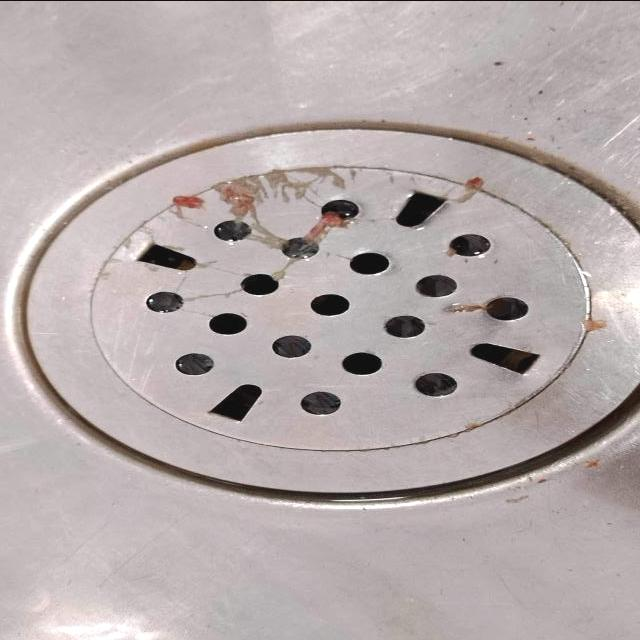General: (1, 3, 637, 639), (109, 158, 592, 452)
